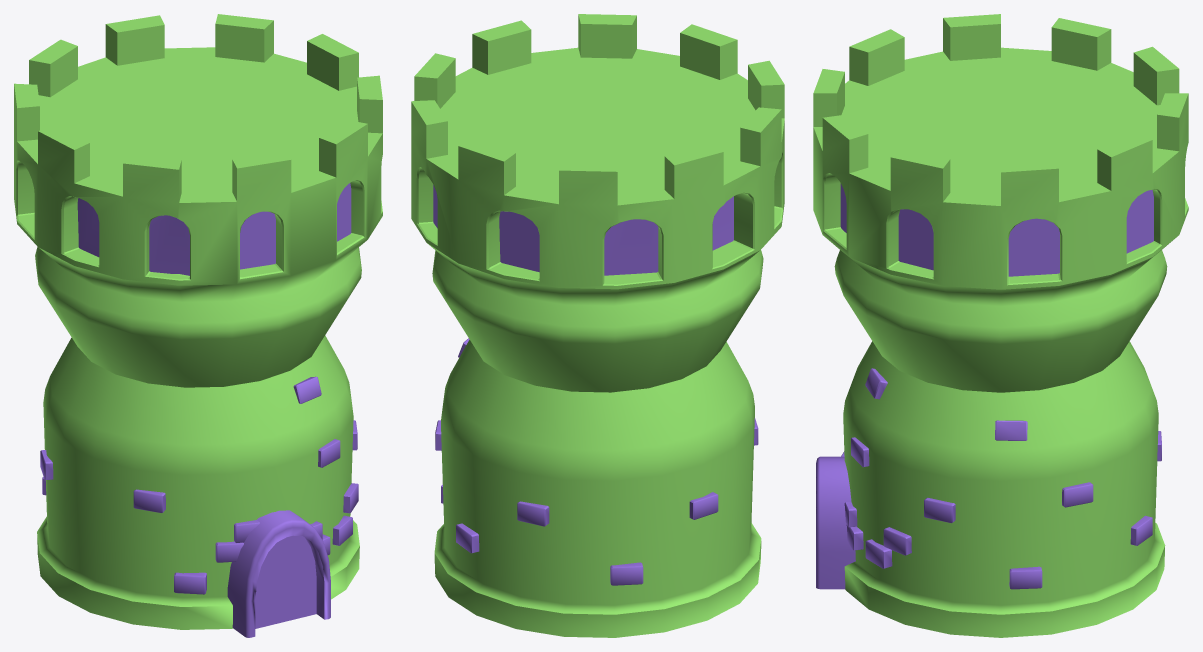
The model's file is towerLV2.fbx.
The picture shows the model from 3 angles, left to right: view 1: azimuth 30°, elevation 25°; view 2: azimuth 150°, elevation 25°; view 3: azimuth 270°, elevation 25°; orthographic projection.
Parts seen in each view (by area): view 1: Cylinder.001; view 2: Cylinder.001; view 3: Cylinder.001.
Boxes of the visible parts, x1,y1,x2,y2 form: Cylinder.001: (14,14,382,637); Cylinder.001: (411,14,784,637); Cylinder.001: (813,14,1188,637).
Bounding box in the file's own units: 196 × 274 × 196.
